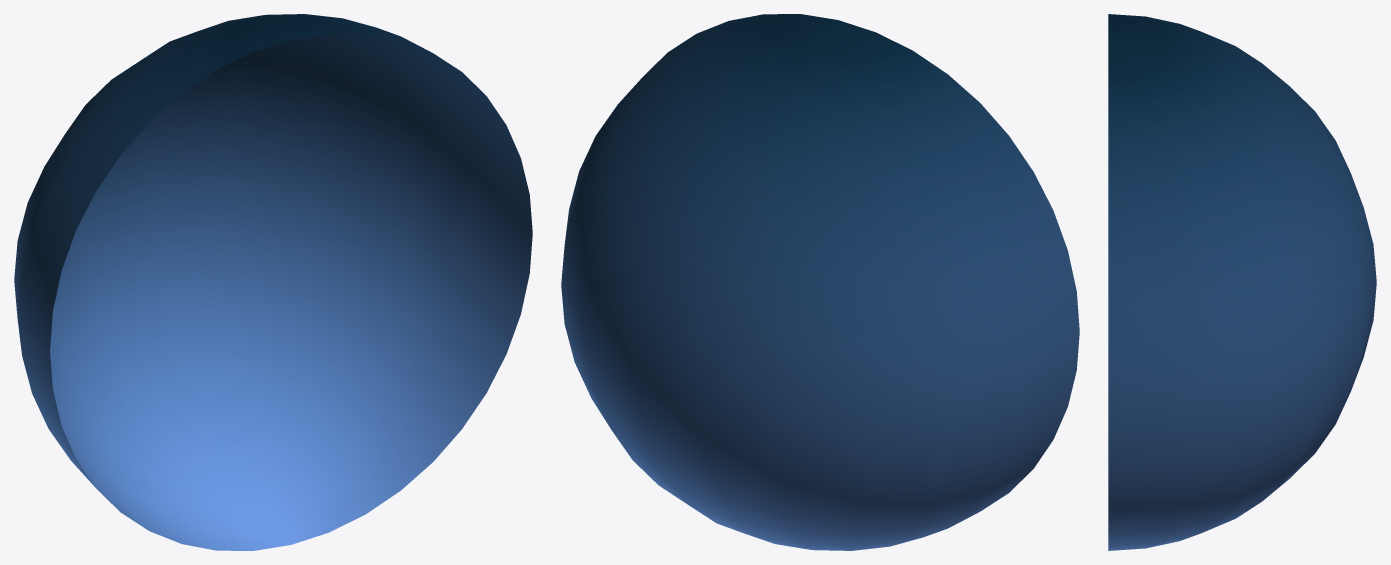
The model's file is halfSphere.fbx.
The picture shows the model from 3 angles, left to right: view 1: azimuth 30°, elevation 25°; view 2: azimuth 150°, elevation 25°; view 3: azimuth 270°, elevation 25°; orthographic projection. The views are drawn at different scales.
Parts seen in each view (by area): view 1: pSphere2; view 2: pSphere2; view 3: pSphere2.
Boxes of the visible parts, x1,y1,x2,y2 form: pSphere2: (14, 14, 532, 550); pSphere2: (561, 14, 1079, 550); pSphere2: (1108, 14, 1376, 550).
Size of the model in its own units: 200 by 200 by 100.
